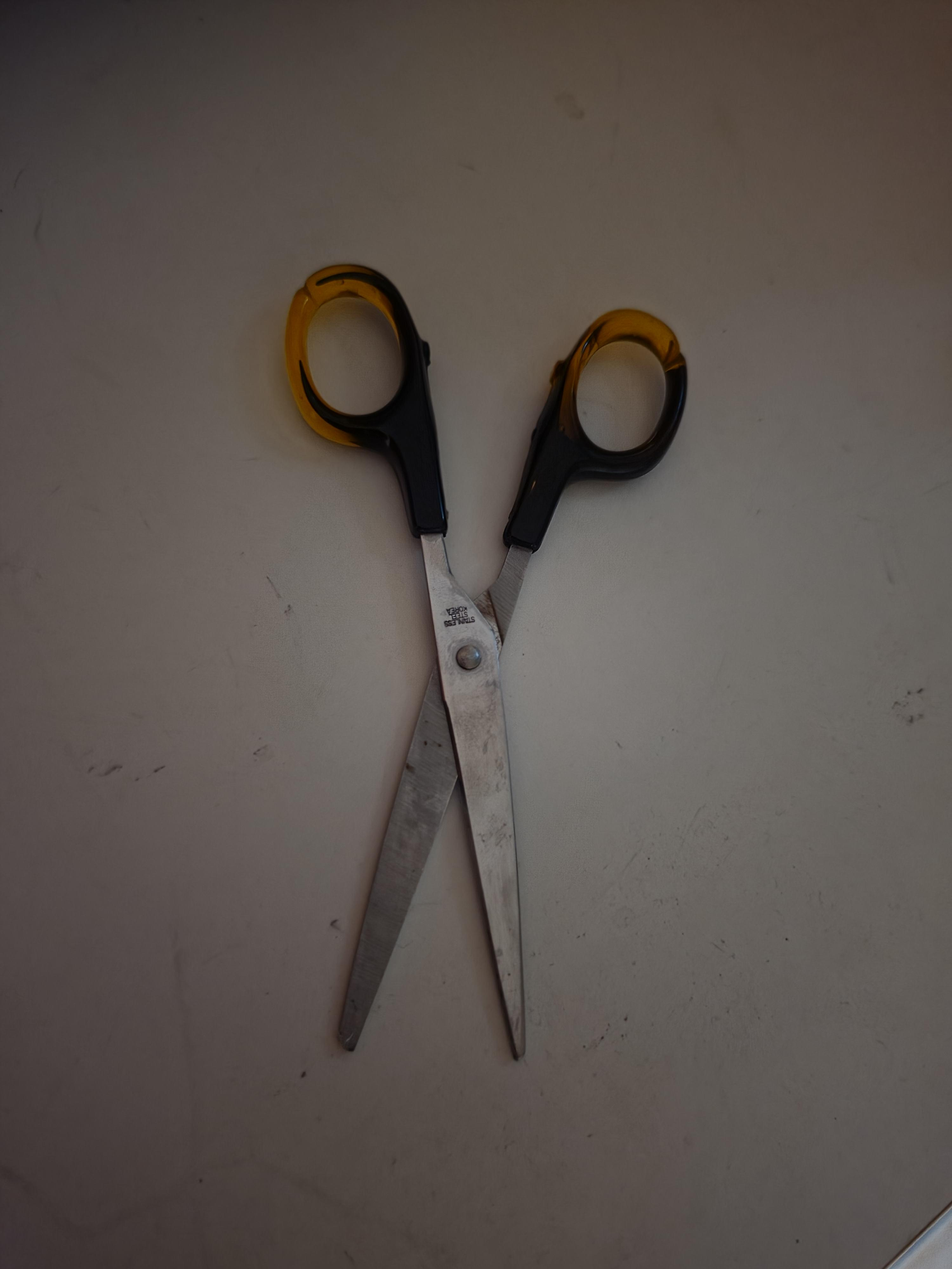scissors: (284, 263, 688, 1060)
